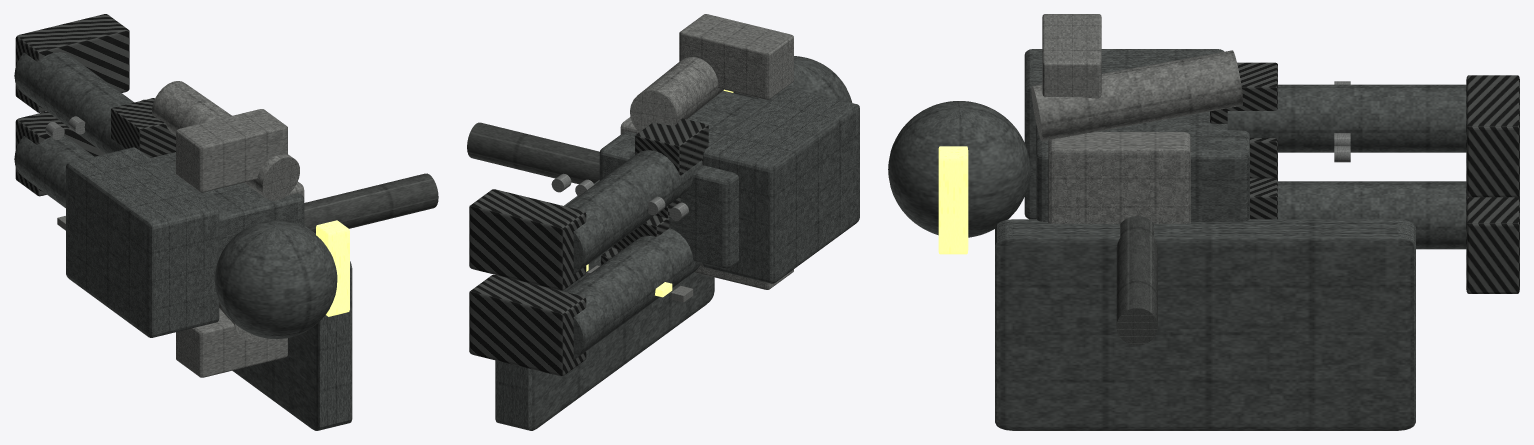
The model's file is c-u05-operative-lod0.glb.
3 renders of one model, left to right at view 1: azimuth 30°, elevation 25°; view 2: azimuth 150°, elevation 25°; view 3: azimuth 270°, elevation 25°, orthographic. The views are drawn at different scales.
Parts seen in each view (by area): view 1: soldier_0_backpack, soldier_0_helmet, ballistic_shield, soldier_0_shoulder_1, soldier_0_leg_1, soldier_0_boot_1, soldier_0_rifle, soldier_0_shoulder_-1, soldier_0_arm_1, soldier_0_torso, soldier_0_leg_-1, soldier_0_pouch_3 (+2 smaller); view 2: soldier_0_backpack, ballistic_shield, soldier_0_boot_-1, soldier_0_boot_1, soldier_0_torso, soldier_0_leg_-1, soldier_0_leg_1, soldier_0_shoulder_1, soldier_0_rifle, soldier_0_arm_1, soldier_0_pouch_3, soldier_0_helmet (+2 smaller); view 3: ballistic_shield, soldier_0_leg_1, soldier_0_chest, soldier_0_helmet, soldier_0_arm_1, soldier_0_leg_-1, soldier_0_torso, soldier_0_boot_1, soldier_0_boot_-1, soldier_0_rifle, soldier_0_shoulder_1, soldier_0_backpack (+4 smaller).
Part boxes in pixels (<box>): soldier_0_backpack: <box>66,147,219,337</box>; soldier_0_helmet: <box>215,220,337,339</box>; ballistic_shield: <box>232,225,352,430</box>; soldier_0_shoulder_1: <box>176,109,287,192</box>; soldier_0_leg_1: <box>14,52,134,153</box>; soldier_0_boot_1: <box>15,14,129,112</box>; soldier_0_rifle: <box>304,173,438,233</box>; soldier_0_shoulder_-1: <box>176,308,287,377</box>; soldier_0_arm_1: <box>152,81,299,200</box>; soldier_0_torso: <box>150,152,304,302</box>; soldier_0_leg_-1: <box>14,136,94,207</box>; soldier_0_pouch_3: <box>111,98,175,157</box>; soldier_0_backpack: <box>702,88,859,283</box>; ballistic_shield: <box>495,180,714,430</box>; soldier_0_boot_-1: <box>469,274,586,376</box>; soldier_0_boot_1: <box>469,189,586,290</box>; soldier_0_torso: <box>599,90,768,268</box>; soldier_0_leg_-1: <box>565,228,700,359</box>; soldier_0_leg_1: <box>565,150,702,273</box>; soldier_0_shoulder_1: <box>679,14,793,99</box>; soldier_0_rifle: <box>467,122,599,184</box>; soldier_0_arm_1: <box>630,57,723,131</box>; soldier_0_pouch_3: <box>635,118,708,175</box>; soldier_0_helmet: <box>733,56,852,102</box>; ballistic_shield: <box>995,219,1415,430</box>; soldier_0_leg_1: <box>1227,84,1466,152</box>; soldier_0_chest: <box>1048,132,1190,223</box>; soldier_0_helmet: <box>888,101,1030,237</box>; soldier_0_arm_1: <box>1031,50,1242,141</box>; soldier_0_leg_-1: <box>1278,181,1466,249</box>; soldier_0_torso: <box>1036,111,1249,221</box>; soldier_0_boot_1: <box>1466,75,1519,197</box>; soldier_0_boot_-1: <box>1466,193,1519,293</box>; soldier_0_rifle: <box>1116,216,1157,345</box>; soldier_0_shoulder_1: <box>1042,14,1101,98</box>; soldier_0_backpack: <box>1024,49,1223,219</box>.
Size of what is drawn, in the model's own units: 1.48 by 1.28 by 2.13.
6 materials, 6 textured.
